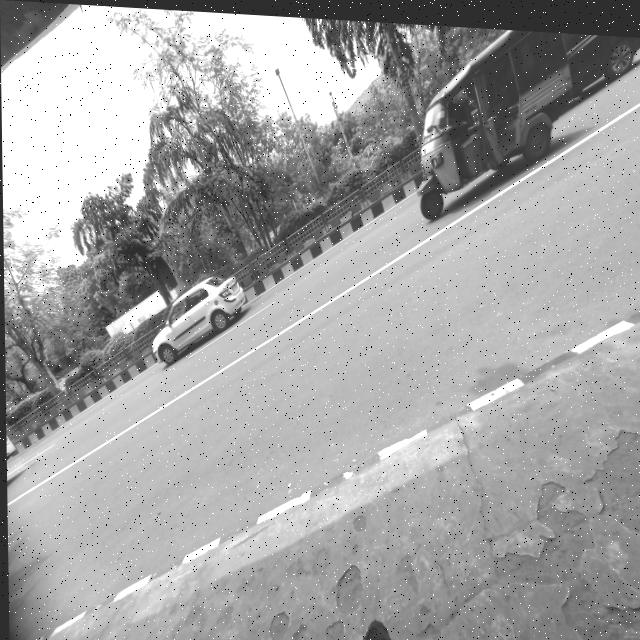car: (143, 273, 248, 368)
